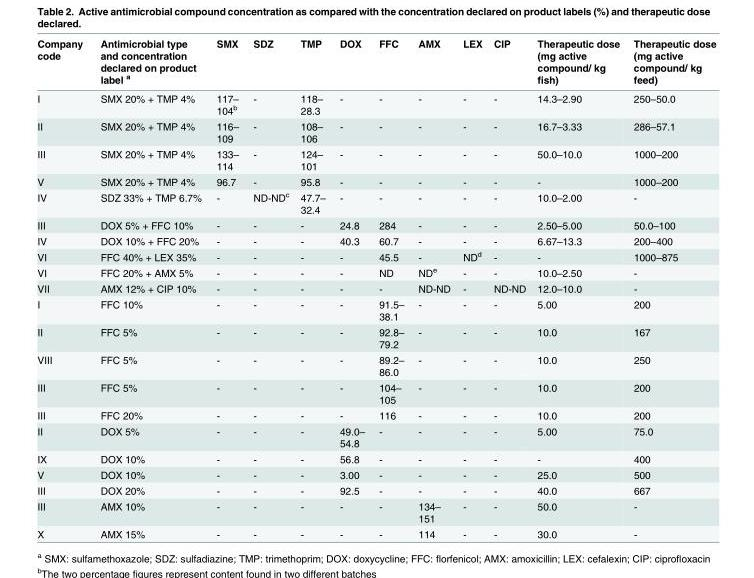table: (36, 37, 715, 539)
table column: (90, 37, 208, 539), (528, 37, 626, 539), (626, 37, 715, 539), (36, 37, 90, 539), (245, 37, 294, 539), (410, 37, 455, 539), (487, 37, 528, 539), (331, 37, 371, 539), (371, 37, 410, 539), (208, 37, 245, 539), (294, 37, 331, 539), (455, 37, 487, 539)
table column header: (36, 37, 715, 88)
table row: (36, 37, 715, 88), (36, 88, 715, 117), (36, 188, 715, 217), (36, 117, 715, 145), (36, 145, 715, 173), (36, 323, 715, 351), (36, 351, 715, 379), (36, 379, 715, 407), (36, 422, 715, 450), (36, 296, 715, 323), (36, 498, 715, 525), (36, 263, 715, 280), (36, 247, 715, 263), (36, 280, 715, 296), (36, 450, 715, 466), (36, 466, 715, 482), (36, 482, 715, 498), (36, 173, 715, 188), (36, 217, 715, 232), (36, 232, 715, 247), (36, 407, 715, 422), (36, 525, 715, 539)
